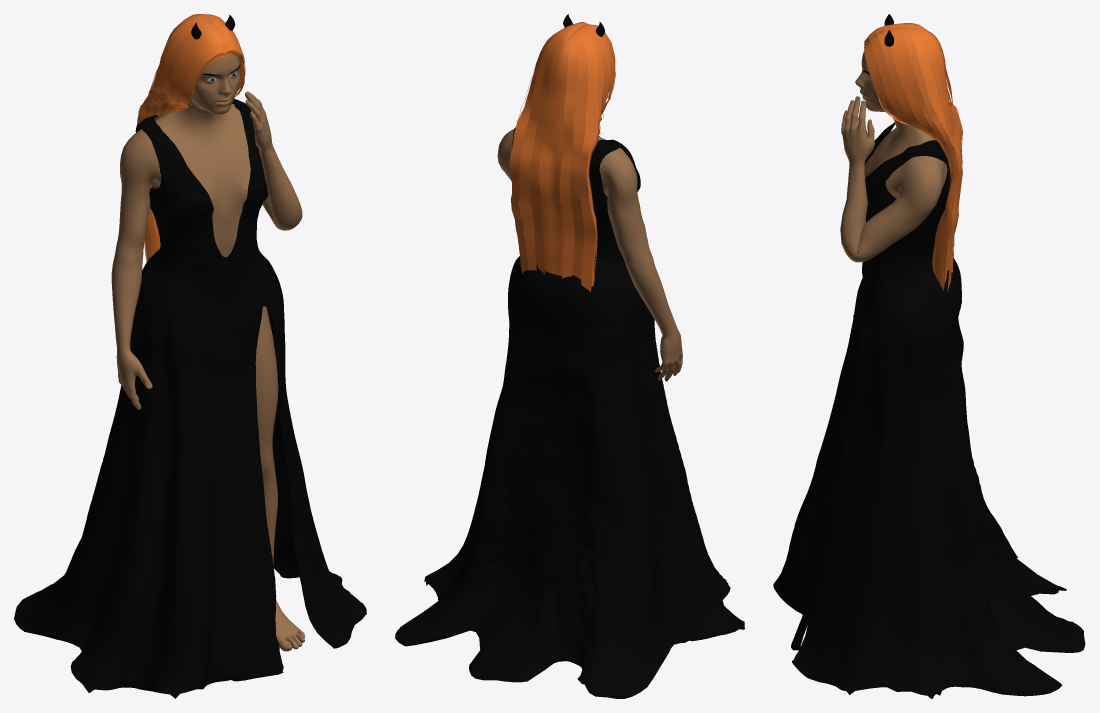
The model's file is woman01.fbx.
3 renders of one model, left to right at view 1: azimuth 30°, elevation 25°; view 2: azimuth 150°, elevation 25°; view 3: azimuth 270°, elevation 25°, orthographic. The views are drawn at different scales.
Parts seen in each view (by area): view 1: Gamejam2020gamelabfemale:Elvs_evening_gown1, Gamejam2020gamelabfemale:Proxy, Gamejam2020gamelabfemale:Long01, Gamejam2020gamelabfemale:Body; view 2: Gamejam2020gamelabfemale:Elvs_evening_gown1, Gamejam2020gamelabfemale:Long01, Gamejam2020gamelabfemale:Proxy, Gamejam2020gamelabfemale:Body; view 3: Gamejam2020gamelabfemale:Elvs_evening_gown1, Gamejam2020gamelabfemale:Long01, Gamejam2020gamelabfemale:Proxy, Gamejam2020gamelabfemale:Body.
Part boxes in pixels (x1,y1,x2,y2): Gamejam2020gamelabfemale:Elvs_evening_gown1: (14,99,366,698); Gamejam2020gamelabfemale:Proxy: (111,54,305,651); Gamejam2020gamelabfemale:Long01: (137,14,245,262); Gamejam2020gamelabfemale:Body: (113,74,301,634); Gamejam2020gamelabfemale:Elvs_evening_gown1: (395,127,744,698); Gamejam2020gamelabfemale:Long01: (509,22,615,292); Gamejam2020gamelabfemale:Proxy: (498,129,682,381); Gamejam2020gamelabfemale:Body: (497,129,671,314); Gamejam2020gamelabfemale:Elvs_evening_gown1: (773,122,1085,698); Gamejam2020gamelabfemale:Long01: (864,23,962,292); Gamejam2020gamelabfemale:Proxy: (840,51,946,316); Gamejam2020gamelabfemale:Body: (846,96,947,262).
Bounding box in the file's own units: 33.43 × 68.17 × 30.93.
